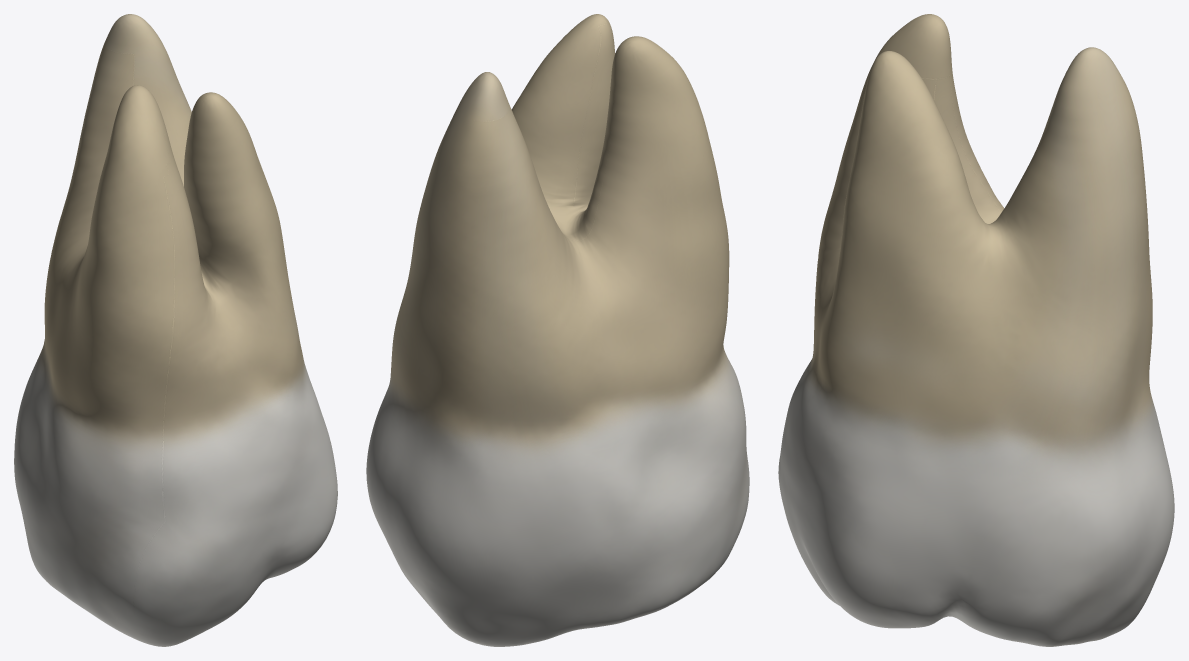
3 views of the same model, side by side, from view 1: azimuth 30°, elevation 25°; view 2: azimuth 150°, elevation 25°; view 3: azimuth 270°, elevation 25° (orthographic). The views are drawn at different scales.
Parts seen in each view (by area): view 1: t28; view 2: t28; view 3: t28.
Boxes of the visible parts, left/top/right/bottom form: t28: left=14, top=14, right=337, bottom=646; t28: left=366, top=14, right=749, bottom=646; t28: left=778, top=14, right=1174, bottom=646.
Size of the model in its own units: 9.47 by 17.5 by 10.59.
Materials: 1 (1 with a texture image).
